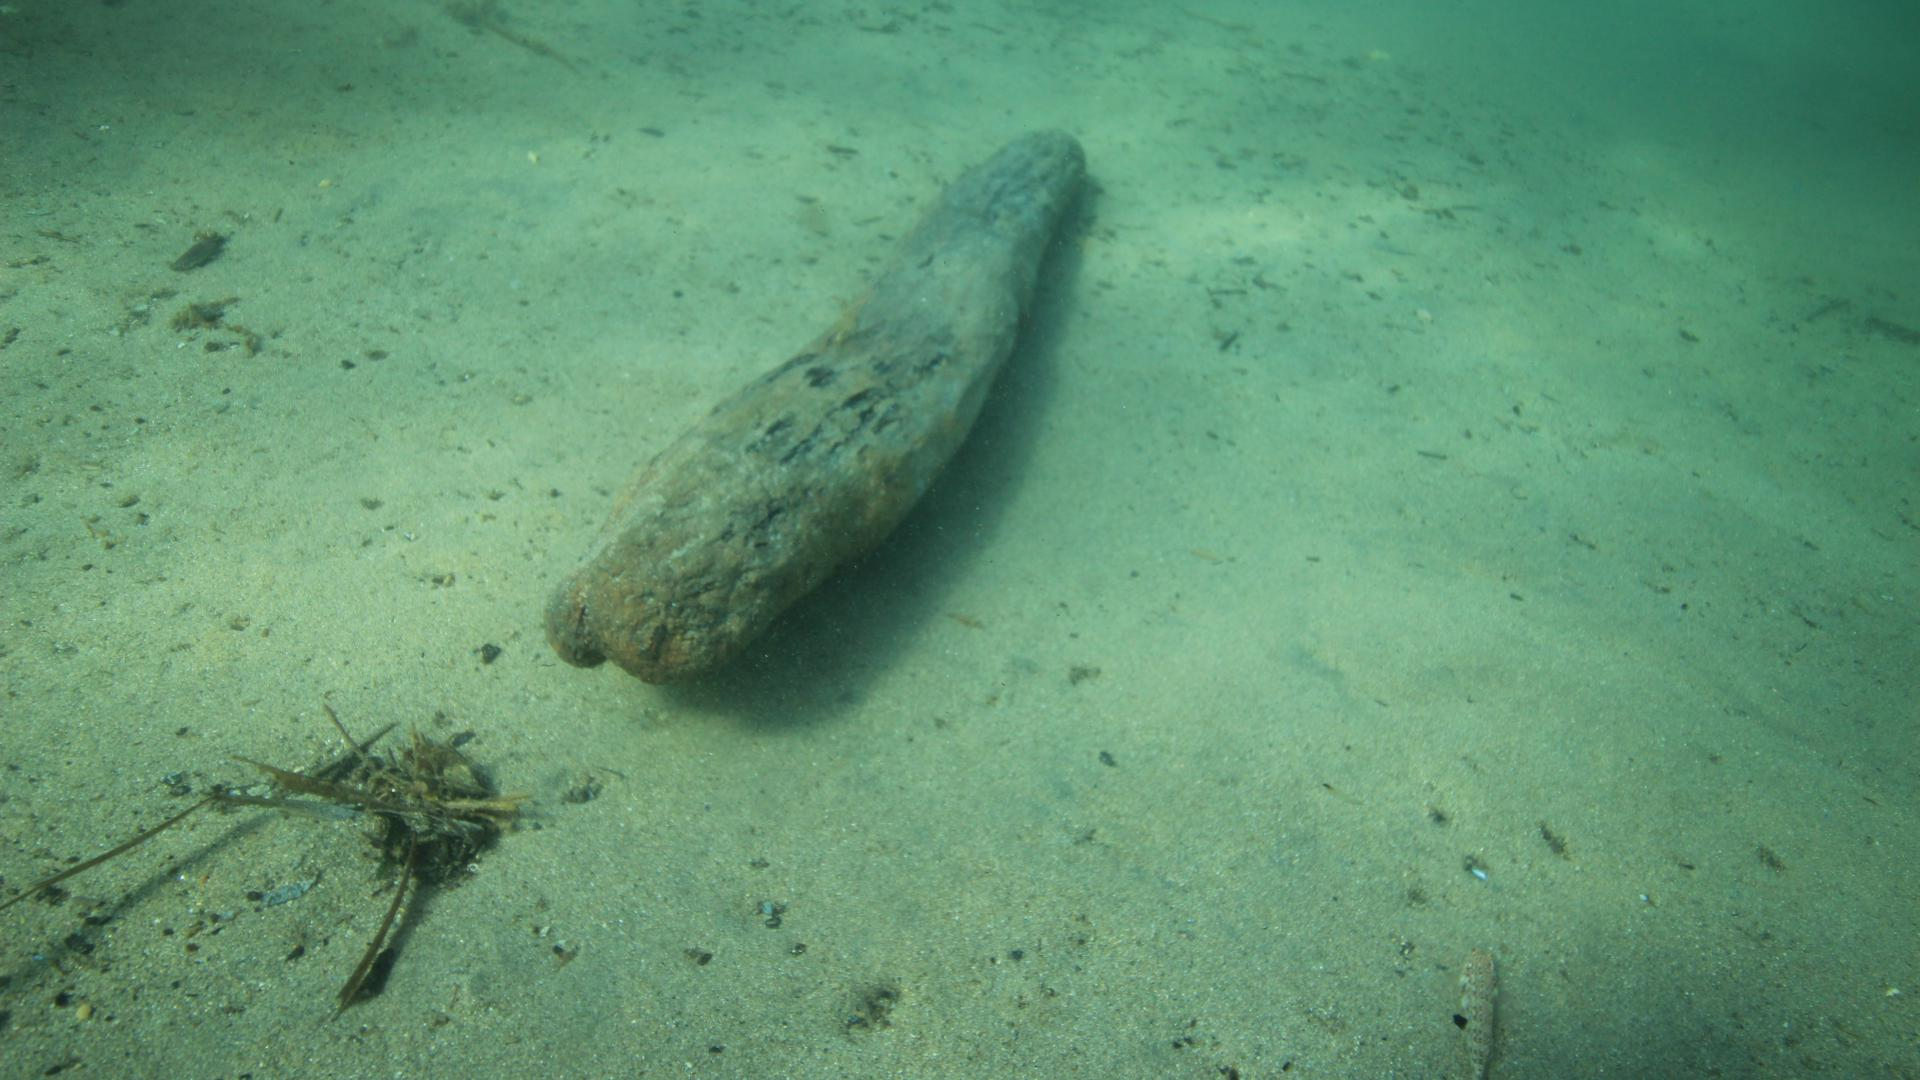wood: (545, 125, 1087, 680)
